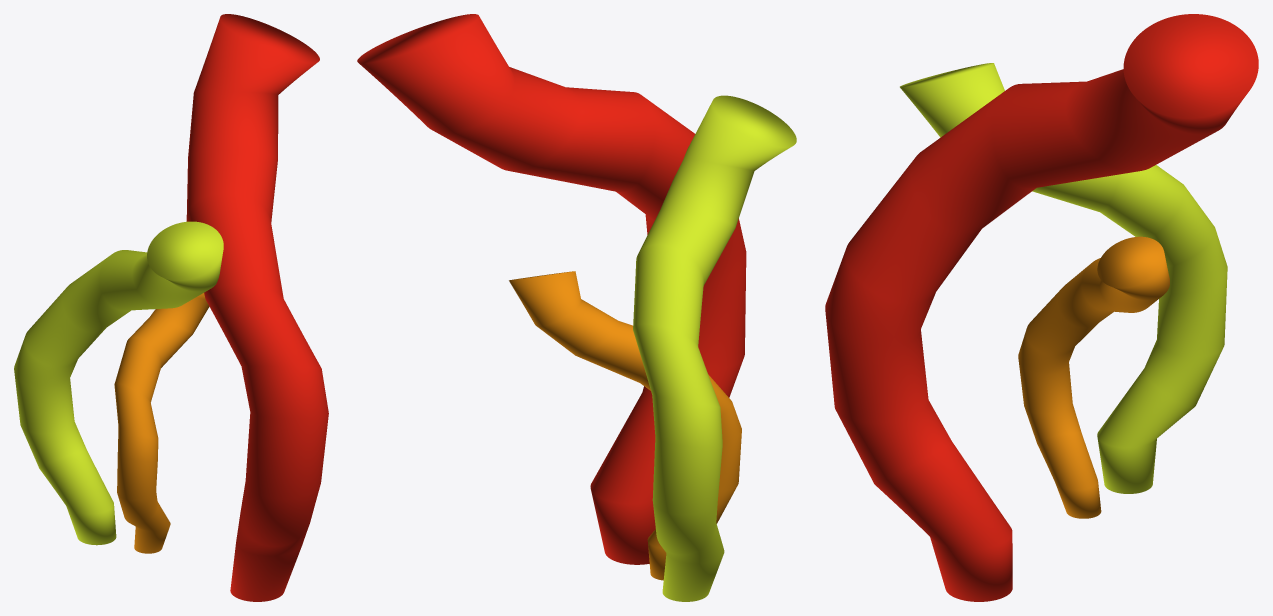
The model's file is corals1.fbx.
3 renders of one model, left to right at view 1: azimuth 30°, elevation 25°; view 2: azimuth 150°, elevation 25°; view 3: azimuth 270°, elevation 25°, orthographic. The views are drawn at different scales.
Visible parts, largest first — view 1: Cylinder.002, Cylinder.001, Cylinder; view 2: Cylinder.002, Cylinder.001, Cylinder; view 3: Cylinder.002, Cylinder.001, Cylinder.
Part boxes in pixels (x1,y1,x2,y2): Cylinder.002: [186, 14, 328, 601]; Cylinder.001: [14, 221, 223, 545]; Cylinder: [114, 293, 209, 553]; Cylinder.002: [357, 14, 746, 564]; Cylinder.001: [633, 95, 796, 601]; Cylinder: [509, 271, 741, 580]; Cylinder.002: [825, 14, 1258, 601]; Cylinder.001: [900, 63, 1227, 493]; Cylinder: [1018, 236, 1169, 518].
Size of the model in its own units: 1202 by 1903 by 1231.
